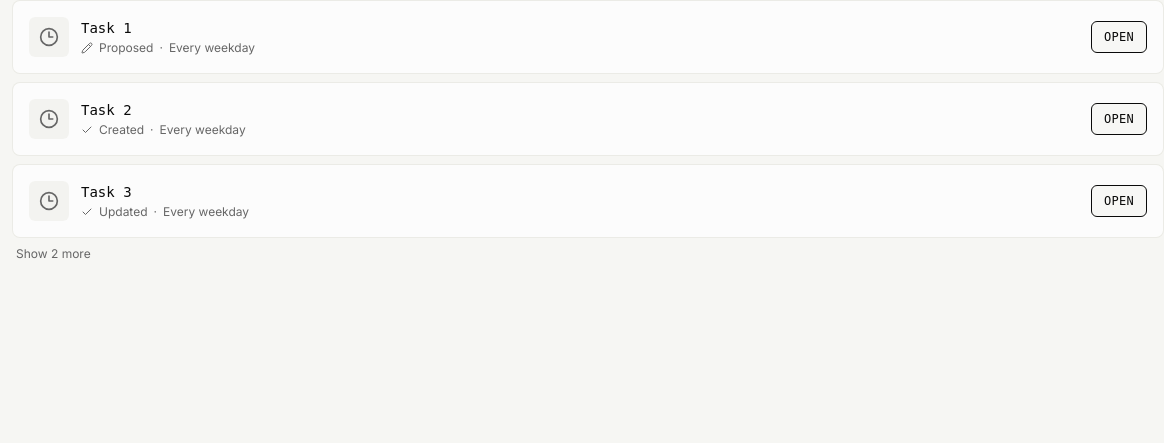
RichResultCards › collapses long result lists and reveals them on demand
Expected: the number of elements with test id "chat-rich-result-scheduled-task" is 3, left=12, top=0, right=1163, bottom=74; left=12, top=82, right=1163, bottom=156; left=12, top=164, right=1163, bottom=238
Click the button "Show 2 more". click: x=53, y=254
box: left=12, top=246, right=95, bottom=262
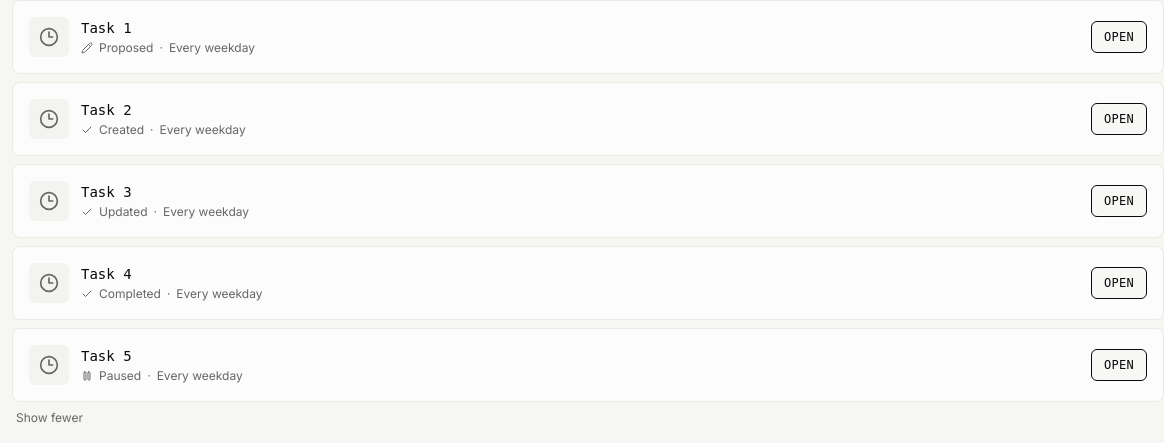
Expected: the number of elements with test id "chat-rich-result-scheduled-task" is 5, left=12, top=0, right=1163, bottom=74; left=12, top=82, right=1163, bottom=156; left=12, top=164, right=1163, bottom=238; left=12, top=246, right=1163, bottom=320; left=12, top=328, right=1163, bottom=402
Expected: the button "Show fewer" is shown, left=12, top=410, right=87, bottom=426
